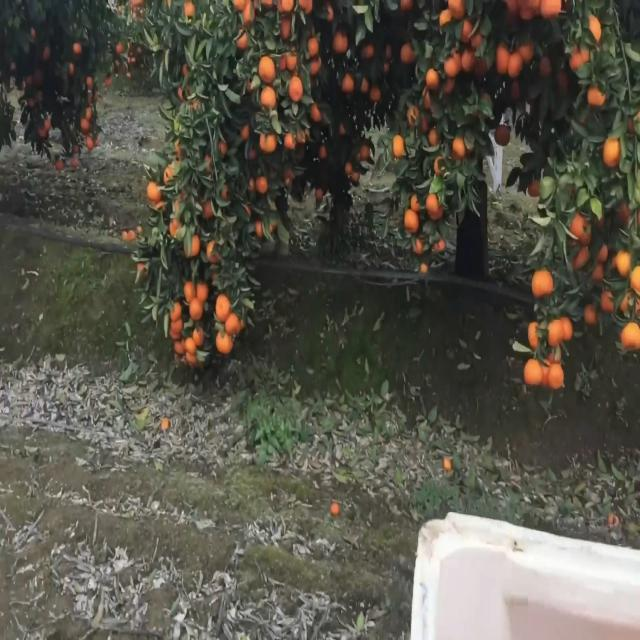Jeruk Sudah Matang: (602, 131, 626, 166), (589, 79, 611, 116), (532, 270, 558, 296), (286, 71, 306, 104), (256, 53, 276, 84), (622, 321, 640, 354), (524, 356, 542, 388), (398, 42, 421, 66), (184, 229, 202, 259), (339, 69, 358, 97), (546, 0, 566, 26), (258, 129, 278, 152), (334, 26, 349, 56), (426, 66, 442, 92), (403, 206, 419, 232), (260, 86, 278, 109), (148, 174, 160, 207), (216, 292, 230, 318), (310, 99, 322, 128), (426, 190, 440, 214), (451, 136, 466, 158), (194, 282, 210, 302), (183, 278, 196, 300), (284, 126, 294, 150), (308, 34, 318, 52)
